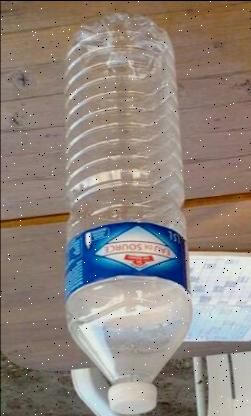Plastic Bottle: (62, 12, 192, 414)
